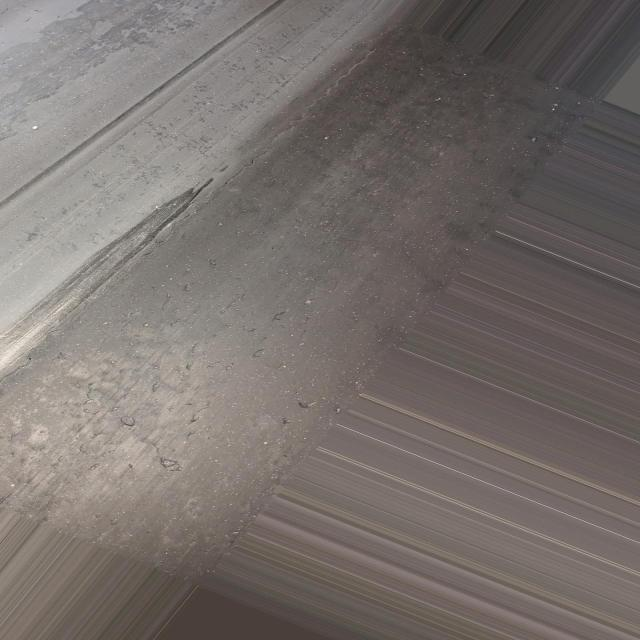Wear: (0, 166, 228, 375)
